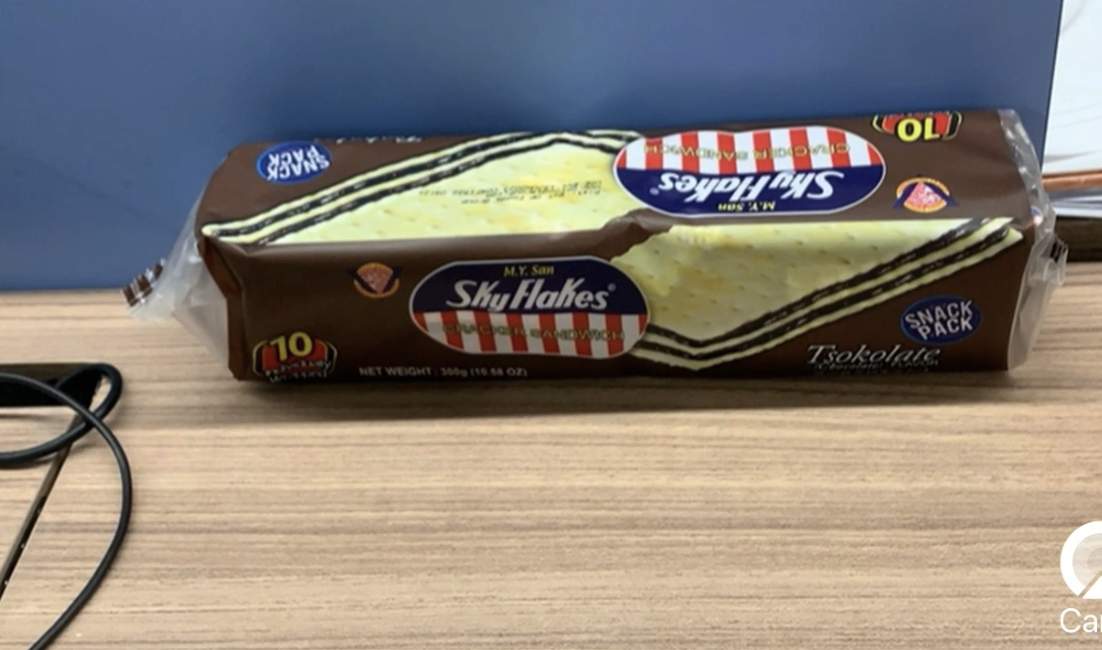crackers_450g: (248, 136, 983, 370)
